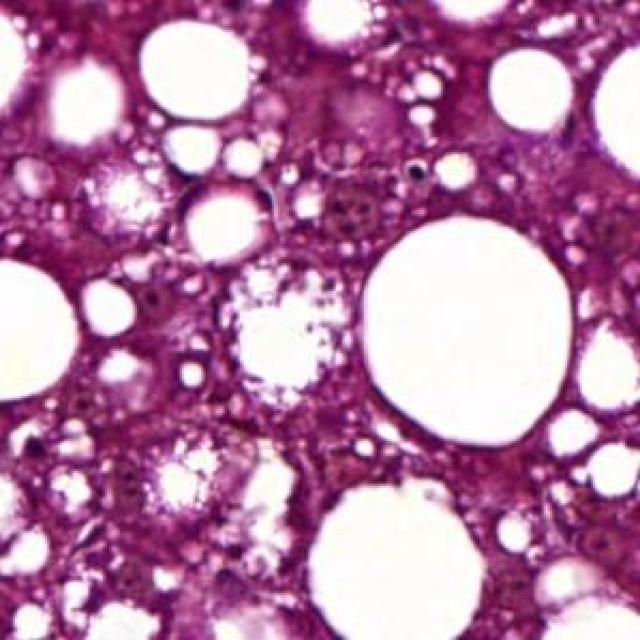steatosis: (360, 218, 574, 461), (137, 21, 259, 116)
